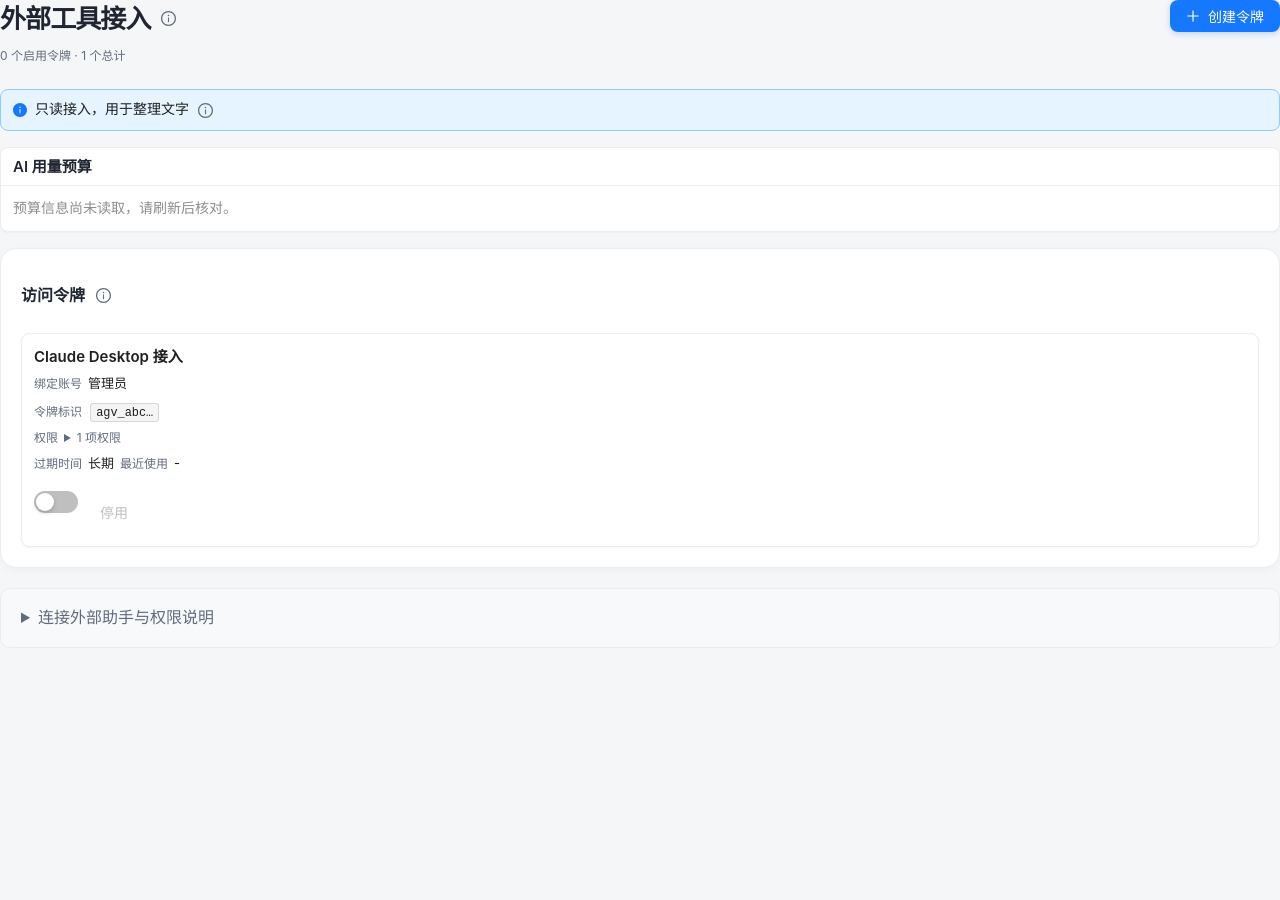
it: 新令牌默认选择只读范围
The image size is (1280, 900).
Check: the text "Claude Desktop 接入" is shown, box [34,347,183,366]
Click the button "创建令牌" at [1225, 16], box [1170,0,1279,32]
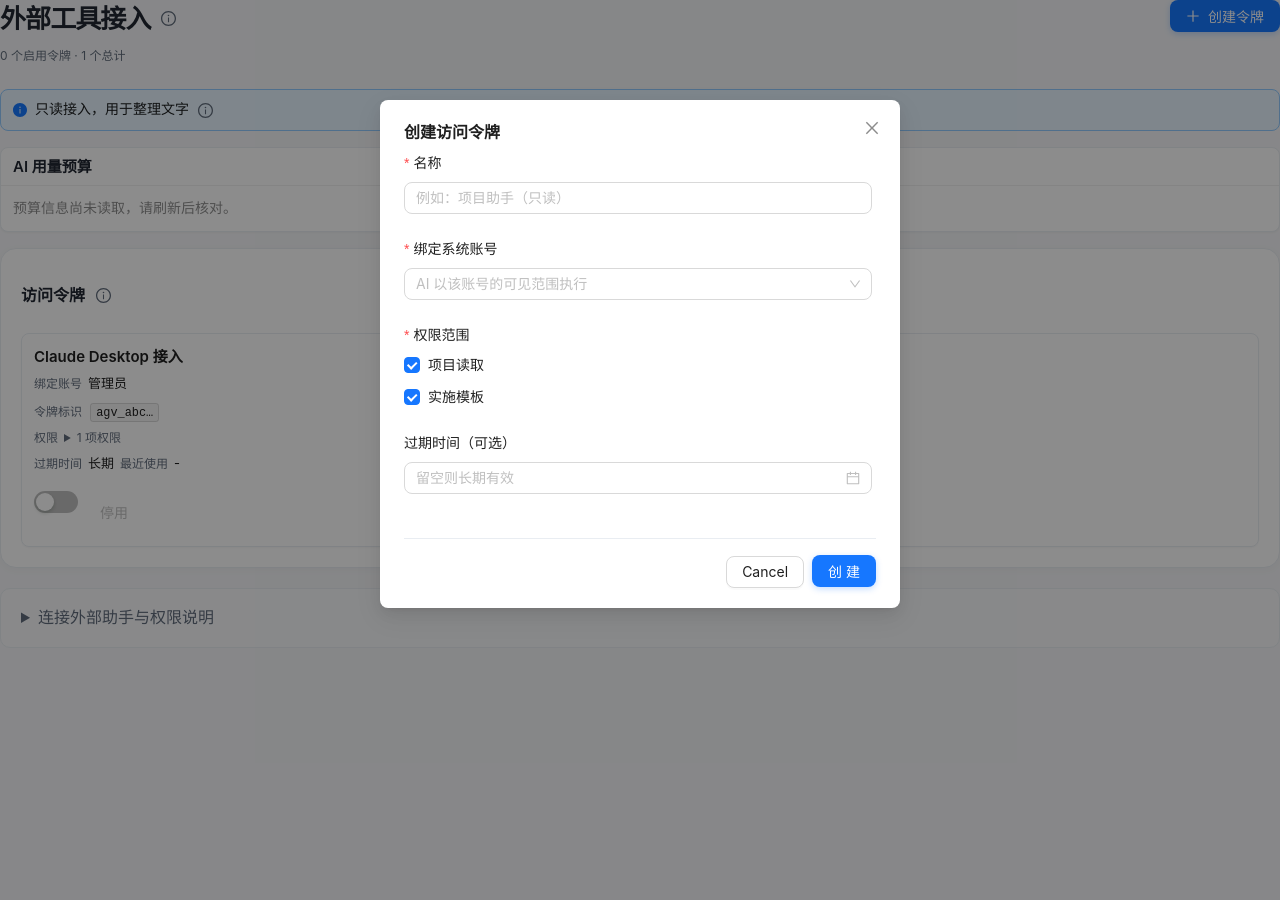
Check: the checkbox labelled "项目读取" is checked, box [404,356,484,373]
Check: the checkbox labelled "实施模板" is checked, box [404,388,484,405]
